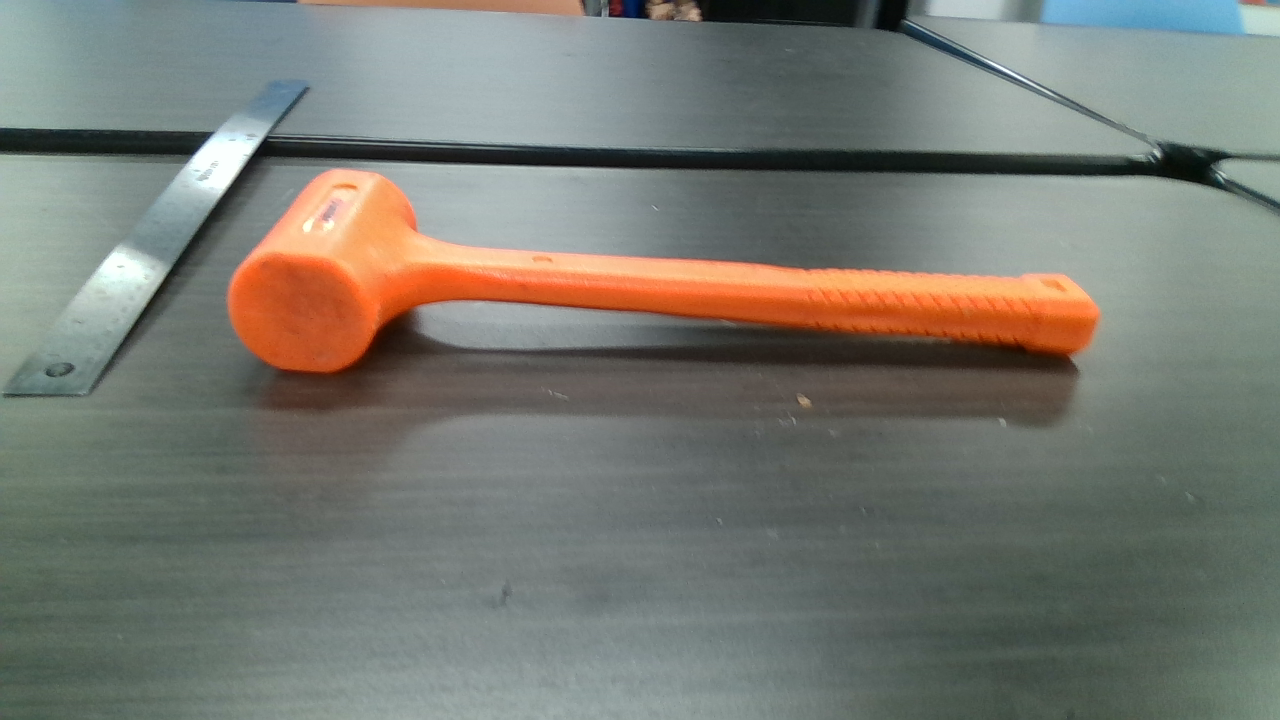Orange Hammer: (240, 169, 1096, 374)
